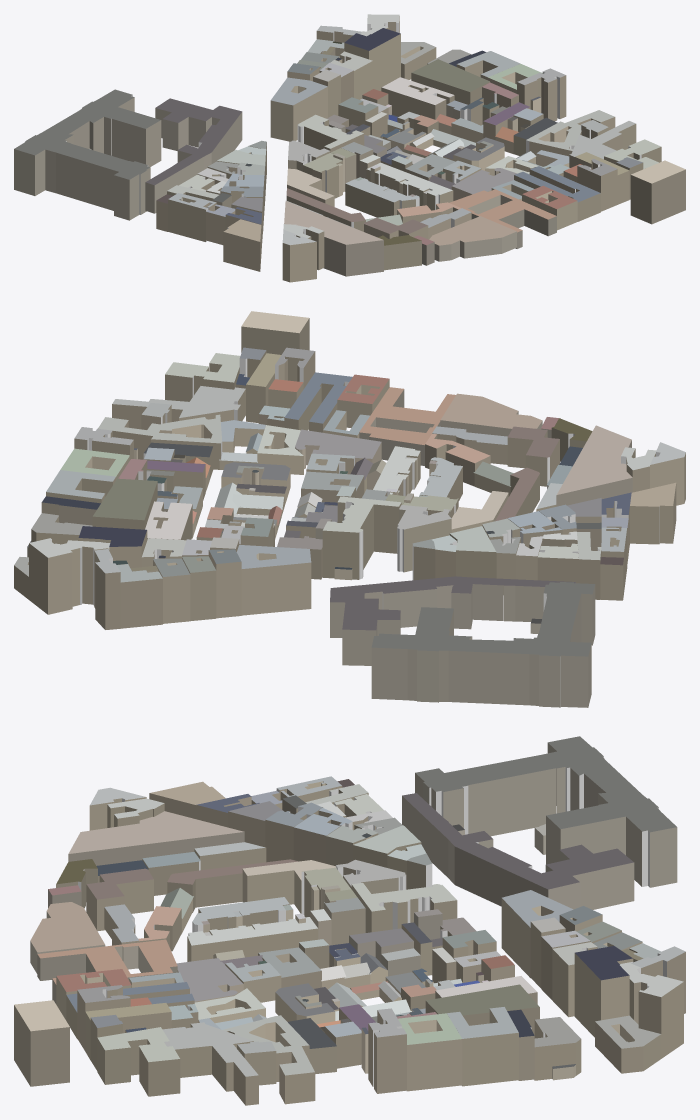
3 renders of one model, top to bottom at view 1: azimuth 30°, elevation 25°; view 2: azimuth 150°, elevation 25°; view 3: azimuth 270°, elevation 25°, orthographic. The views are drawn at different scales.
Visible parts, largest first — view 1: tuile; view 2: tuile; view 3: tuile.
Boxes of the visible parts, bbox=[...] form: tuile: bbox=[14, 14, 685, 282]; tuile: bbox=[14, 311, 685, 707]; tuile: bbox=[14, 736, 685, 1105].
Size of the model in its own units: 308 by 32.38 by 263.
